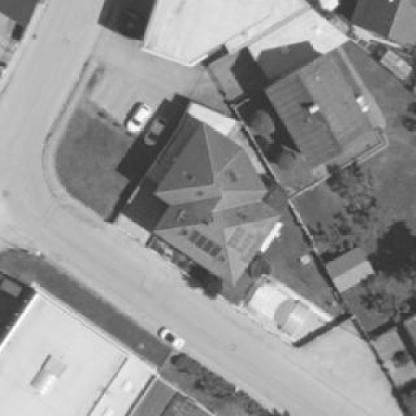solar-pv-panel: (227, 226, 266, 265), (187, 229, 223, 259)
